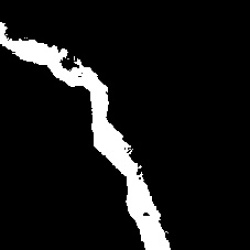crack: (0, 22, 171, 249)
